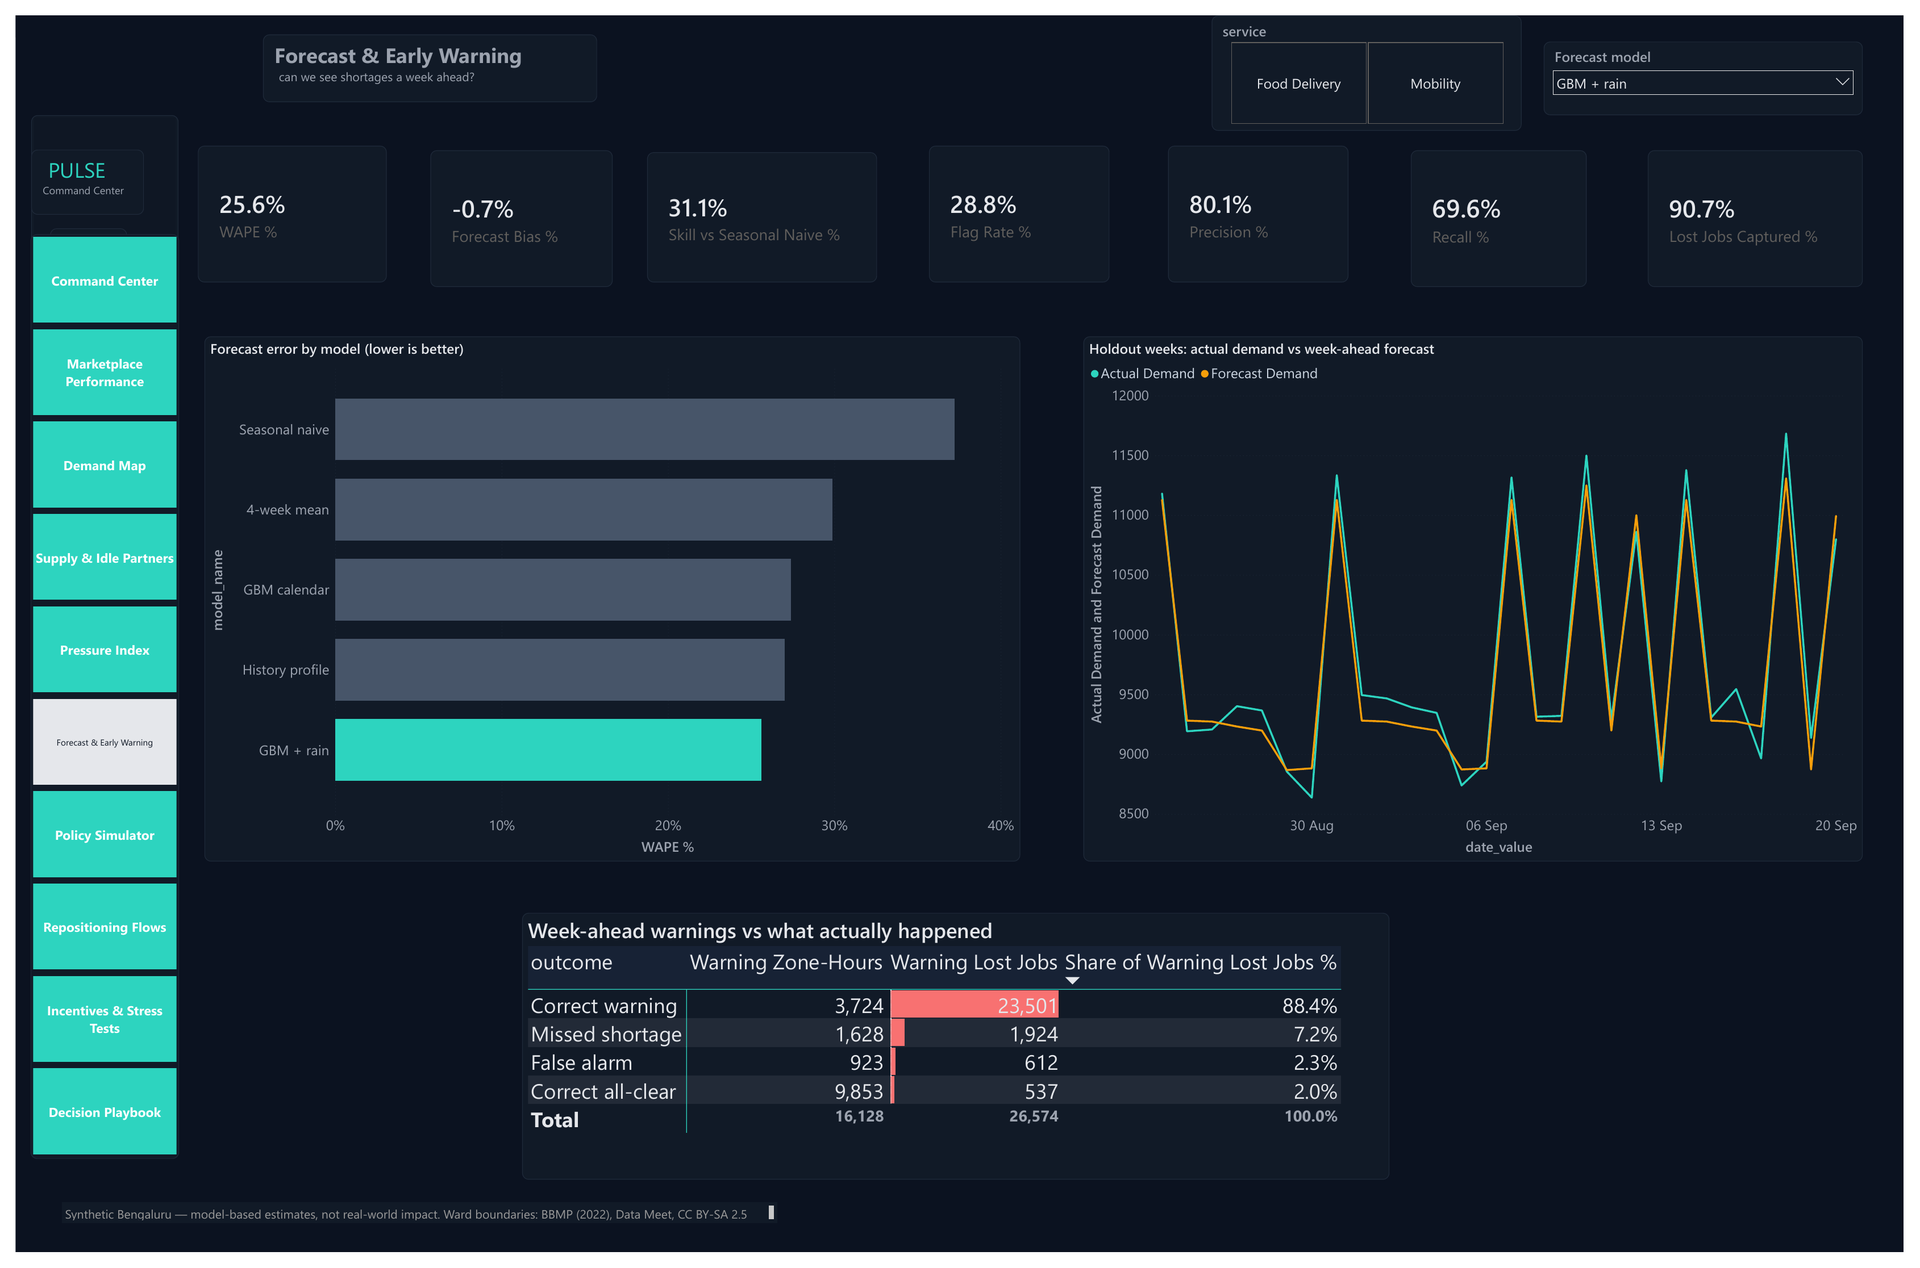

The dashboard page shown, as its layout file describes it:
{"tool":"powerbi","page":{"name":"Forecast & Early Warning","canvas":[2900,1900],"ordinal":5},"visuals":[{"type":"shape","box":[23.6,153.2,226.9,1603],"z":0},{"type":"textbox","box":[23.6,206.3,173.9,100.2],"z":1000},{"type":"pageNavigator","box":[53,327.1,117.9,29.5],"z":2000},{"type":"textbox","box":[380.1,29.5,512.7,103.1],"z":3000},{"type":"textbox","box":[70.7,1824,1099.1,32.4],"z":4000},{"type":"slicer","fields":{"Values":["Dim_Service.service_name"]},"box":[1836.7,0,476.7,176.7],"z":5000},{"type":"slicer","fields":{"Values":["Dim_Forecast_Model.model_name"]},"box":[2346.7,40,490,113.3],"z":6000},{"type":"cardVisual","fields":{"Data":["_Measures.WAPE %"]},"box":[280,200,290,210],"z":7000},{"type":"cardVisual","fields":{"Data":["_Measures.Forecast Bias %"]},"box":[636.7,206.7,280,210],"z":8000},{"type":"cardVisual","fields":{"Data":["_Measures.Skill vs Seasonal Naive %"]},"box":[970,210,353.3,200],"z":9000},{"type":"cardVisual","fields":{"Data":["_Measures.Flag Rate %"]},"box":[1403.3,200,276.7,210],"z":10000},{"type":"cardVisual","fields":{"Data":["_Measures.Precision %"]},"box":[1770,200,276.7,210],"z":11000},{"type":"cardVisual","fields":{"Data":["_Measures.Recall %"]},"box":[2143.3,206.7,270,210],"z":12000},{"type":"cardVisual","fields":{"Data":["_Measures.Lost Jobs Captured %"]},"box":[2506.7,206.7,330,210],"z":13000},{"type":"clusteredBarChart","title":"Forecast error by model (lower is better)","fields":{"Category":["Fact_Demand_Forecast.model_name"],"Y":["_Measures.WAPE %"]},"box":[290,493.3,1253.3,806.7],"z":14000},{"type":"lineChart","title":"Holdout weeks: actual demand vs week-ahead forecast","fields":{"Category":["Dim_Time.date_value"],"Y":["_Measures.Actual Demand","_Measures.Forecast Demand"]},"box":[1640,493.3,1196.7,806.7],"z":15000},{"type":"pivotTable","title":"Week-ahead warnings vs what actually happened","fields":{"Rows":["Fact_Pressure_Forecast.outcome"],"Values":["_Measures.Warning Zone-Hours","_Measures.Warning Lost Jobs","_Measures.Share of Warning Lost Jobs %"]},"box":[777.9,1379,1331.9,409.6],"z":16000},{"type":"pageNavigator","box":[22.9,336.4,228.6,1420.6],"z":18000}]}

Visuals, with their boxes on the page's 2900x1900 design canvas (x1, y1, x2, y2). These are canvas units, not pixel positions in the 1920x1268 screenshot, which may show the page scaled, cropped or inside an application window:
shape: region(24, 153, 250, 1756)
textbox: region(24, 206, 198, 306)
pageNavigator: region(53, 327, 171, 357)
textbox: region(380, 30, 893, 133)
textbox: region(71, 1824, 1170, 1856)
slicer - Dim_Service.service_name: region(1837, 0, 2313, 177)
slicer - Dim_Forecast_Model.model_name: region(2347, 40, 2837, 153)
cardVisual - _Measures.WAPE %: region(280, 200, 570, 410)
cardVisual - _Measures.Forecast Bias %: region(637, 207, 917, 417)
cardVisual - _Measures.Skill vs Seasonal Naive %: region(970, 210, 1323, 410)
cardVisual - _Measures.Flag Rate %: region(1403, 200, 1680, 410)
cardVisual - _Measures.Precision %: region(1770, 200, 2047, 410)
cardVisual - _Measures.Recall %: region(2143, 207, 2413, 417)
cardVisual - _Measures.Lost Jobs Captured %: region(2507, 207, 2837, 417)
"Forecast error by model (lower is better)" clusteredBarChart: region(290, 493, 1543, 1300)
"Holdout weeks: actual demand vs week-ahead forecast" lineChart: region(1640, 493, 2837, 1300)
"Week-ahead warnings vs what actually happened" pivotTable: region(778, 1379, 2110, 1789)
pageNavigator: region(23, 336, 252, 1757)
